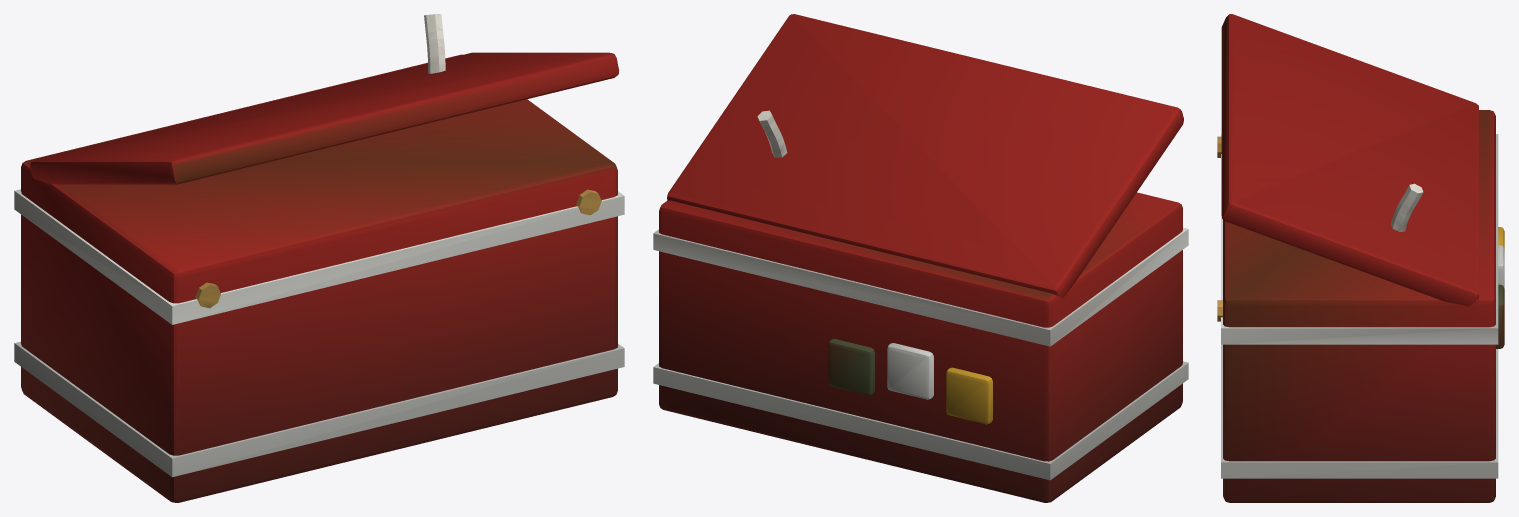
Rendered from ToyChest.glb.
3 renders of one model, left to right at view 1: azimuth 30°, elevation 25°; view 2: azimuth 150°, elevation 25°; view 3: azimuth 270°, elevation 25°, orthographic. The views are drawn at different scales.
Parts seen in each view (by area): view 1: ToyChest_paint_red, ToyChest_paint_white, ToyChest_ceramic, ToyChest_brass; view 2: ToyChest_paint_red, ToyChest_paint_white, ToyChest_paint_olive, ToyChest_paint_yellow, ToyChest_ceramic; view 3: ToyChest_paint_red, ToyChest_paint_white, ToyChest_ceramic, ToyChest_paint_olive.
Boxes of the visible parts, x1,y1,x2,y2 form: ToyChest_paint_red: (21, 52, 619, 502); ToyChest_paint_white: (14, 189, 624, 477); ToyChest_ceramic: (424, 14, 445, 73); ToyChest_brass: (195, 189, 601, 308); ToyChest_paint_red: (659, 14, 1183, 502); ToyChest_paint_white: (653, 227, 1188, 480); ToyChest_paint_olive: (828, 339, 874, 395); ToyChest_paint_yellow: (946, 367, 992, 424); ToyChest_ceramic: (757, 110, 787, 157); ToyChest_paint_red: (1221, 14, 1495, 502); ToyChest_paint_white: (1221, 134, 1504, 478); ToyChest_ceramic: (1390, 183, 1423, 231); ToyChest_paint_olive: (1496, 284, 1504, 348).
Size of the model in its own units: 4.04 by 2.92 by 2.53.
